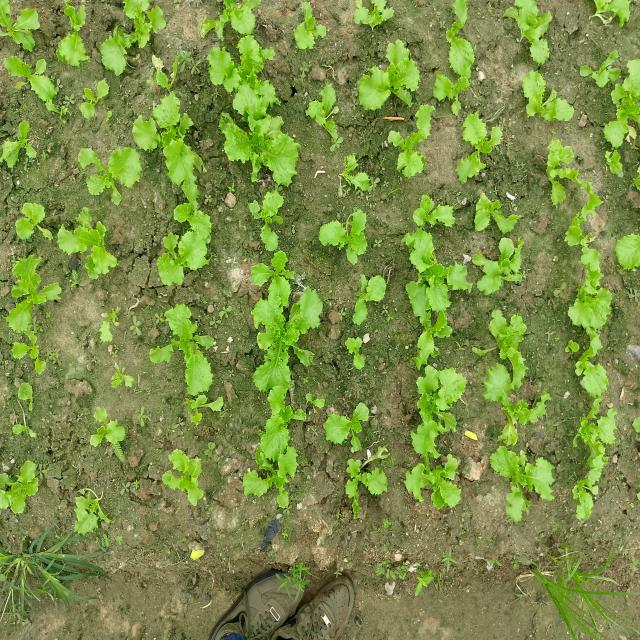Lettuce: (127, 99, 219, 190), (247, 288, 328, 388), (194, 36, 286, 121), (146, 310, 220, 395), (220, 110, 306, 182), (402, 186, 466, 282), (97, 1, 172, 80), (351, 35, 425, 113), (478, 366, 557, 439), (160, 192, 223, 282), (572, 396, 619, 516), (489, 443, 564, 515), (4, 254, 70, 332), (0, 33, 62, 108), (59, 211, 124, 282), (244, 434, 306, 506), (74, 141, 146, 203), (561, 321, 619, 396), (399, 454, 468, 517), (467, 311, 541, 369), (468, 240, 526, 310), (232, 193, 302, 248), (531, 134, 583, 207), (330, 131, 380, 203), (518, 65, 578, 124), (604, 48, 640, 146), (500, 1, 558, 61), (307, 213, 375, 263), (160, 446, 212, 511), (413, 364, 471, 422), (406, 288, 452, 361), (240, 247, 304, 299), (444, 4, 486, 79), (299, 84, 349, 146), (573, 243, 606, 334), (196, 1, 269, 41), (321, 401, 380, 450), (339, 454, 391, 504), (386, 127, 436, 178), (0, 458, 42, 518), (458, 116, 512, 162), (469, 186, 520, 234), (5, 324, 49, 378), (3, 110, 40, 172), (0, 1, 42, 54), (72, 487, 115, 535), (352, 270, 390, 324), (86, 411, 136, 451), (406, 420, 451, 461), (14, 200, 51, 245), (353, 0, 403, 33), (578, 51, 622, 85), (296, 8, 328, 54), (564, 212, 594, 258), (338, 326, 368, 370), (588, 0, 633, 27)
